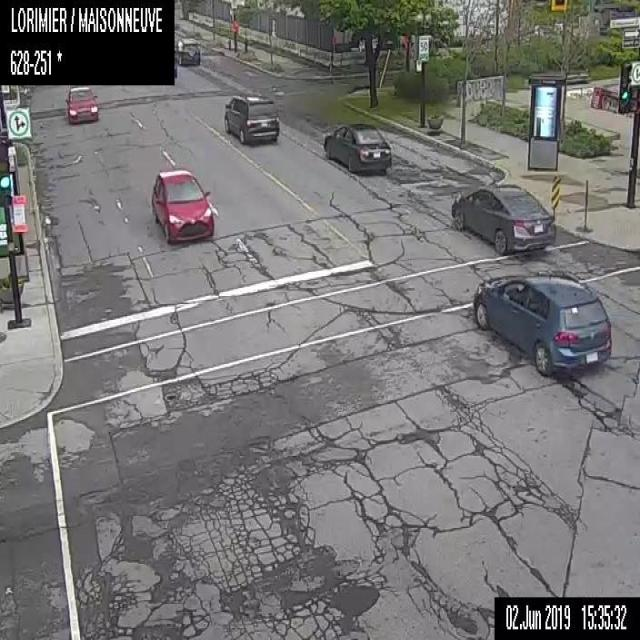vehicle: (471, 272, 612, 375), (450, 181, 554, 255), (150, 165, 213, 243), (323, 120, 392, 172), (223, 90, 279, 142), (64, 84, 98, 124), (174, 35, 201, 65)
